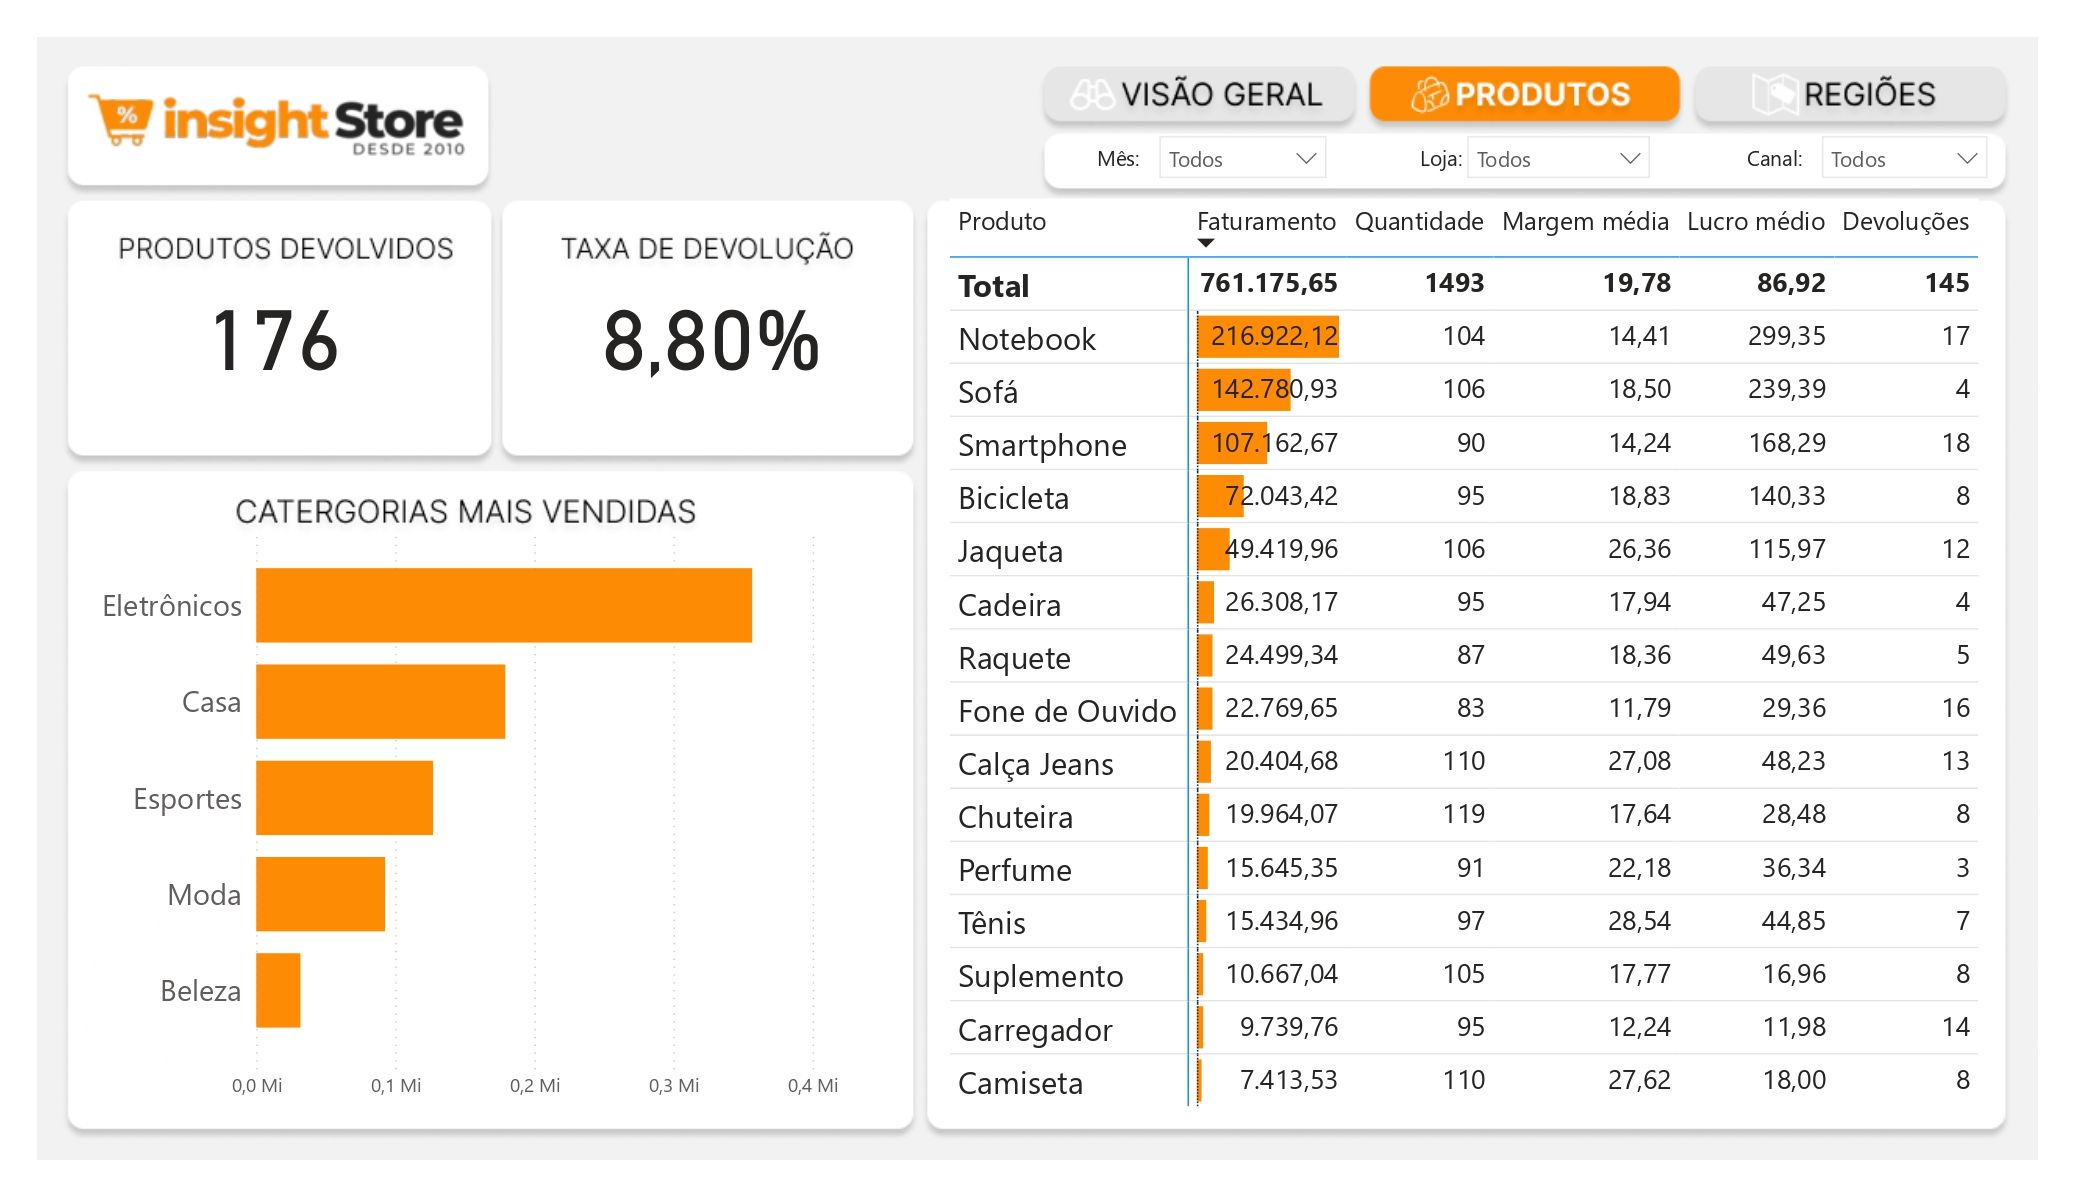

Layout of this report page (visuals, bound fields, positions):
{"tool":"powerbi","page":{"name":"PRODUTOS","canvas":[1280,720],"ordinal":1},"visuals":[{"type":"pivotTable","fields":{"Rows":["vendas_ficticias_lojas_brasil123.product_name"],"Values":["Sum(vendas_ficticias_lojas_brasil123.price_unit)","CountNonNull(vendas_ficticias_lojas_brasil123.quantity)","Avg(vendas_ficticias_lojas_brasil123.profit_margin_pct)","Avg(vendas_ficticias_lojas_brasil123.profit)","Tabela_Medidas.Devoluções"]},"box":[578.8,98,678.3,591],"z":0},{"type":"barChart","fields":{"Category":["vendas_ficticias_lojas_brasil123.category"],"Y":["Tabela_Medidas.Total_faturado"]},"box":[27.6,301.6,490,387.4],"z":1000},{"type":"card","fields":{"Values":["Tabela_Medidas.Devoluções"]},"box":[93.3,113.3,115,146.7],"z":2000},{"type":"card","fields":{"Values":["Tabela_Medidas.TaxadeDevolucao"]},"box":[305,111.7,253.3,150],"z":3000},{"type":"textbox","box":[673,63,107,34],"z":4000},{"type":"textbox","box":[880.4,62.8,47.5,30.6],"z":5000},{"type":"textbox","box":[1088.6,62.8,56.7,39.8],"z":6000},{"type":"slicer","fields":{"Values":["vendas_ficticias_lojas_brasil123.sales_channel"]},"box":[1131.7,53.3,126.7,48.3],"z":7000},{"type":"slicer","fields":{"Values":["vendas_ficticias_lojas_brasil123.store_city"]},"box":[905,53.3,136.7,48.3],"z":8000},{"type":"slicer","fields":{"Values":["vendas_ficticias_lojas_brasil123.order_date.Variation.Hierarquia de datas.Mês"]},"box":[708.3,53.3,126.7,48.3],"z":9000},{"type":"actionButton","box":[640,13.3,206.7,40],"z":10000},{"type":"actionButton","box":[1073.3,13.3,185,40],"z":11000}]}

Visuals, with their boxes on the page's 1280x720 design canvas (x1, y1, x2, y2). These are canvas units, not pixel positions in the 2075x1200 screenshot, which may show the page scaled, cropped or inside an application window:
pivotTable - vendas_ficticias_lojas_brasil123.product_name x Sum(vendas_ficticias_lojas_brasil123.price_unit): [579, 98, 1257, 689]
barChart - vendas_ficticias_lojas_brasil123.category x Tabela_Medidas.Total_faturado: [28, 302, 518, 689]
card - Tabela_Medidas.Devoluções: [93, 113, 208, 260]
card - Tabela_Medidas.TaxadeDevolucao: [305, 112, 558, 262]
textbox: [673, 63, 780, 97]
textbox: [880, 63, 928, 93]
textbox: [1089, 63, 1145, 103]
slicer - vendas_ficticias_lojas_brasil123.sales_channel: [1132, 53, 1258, 102]
slicer - vendas_ficticias_lojas_brasil123.store_city: [905, 53, 1042, 102]
slicer - vendas_ficticias_lojas_brasil123.order_date.Variation.Hierarquia de datas.Mês: [708, 53, 835, 102]
actionButton: [640, 13, 847, 53]
actionButton: [1073, 13, 1258, 53]
